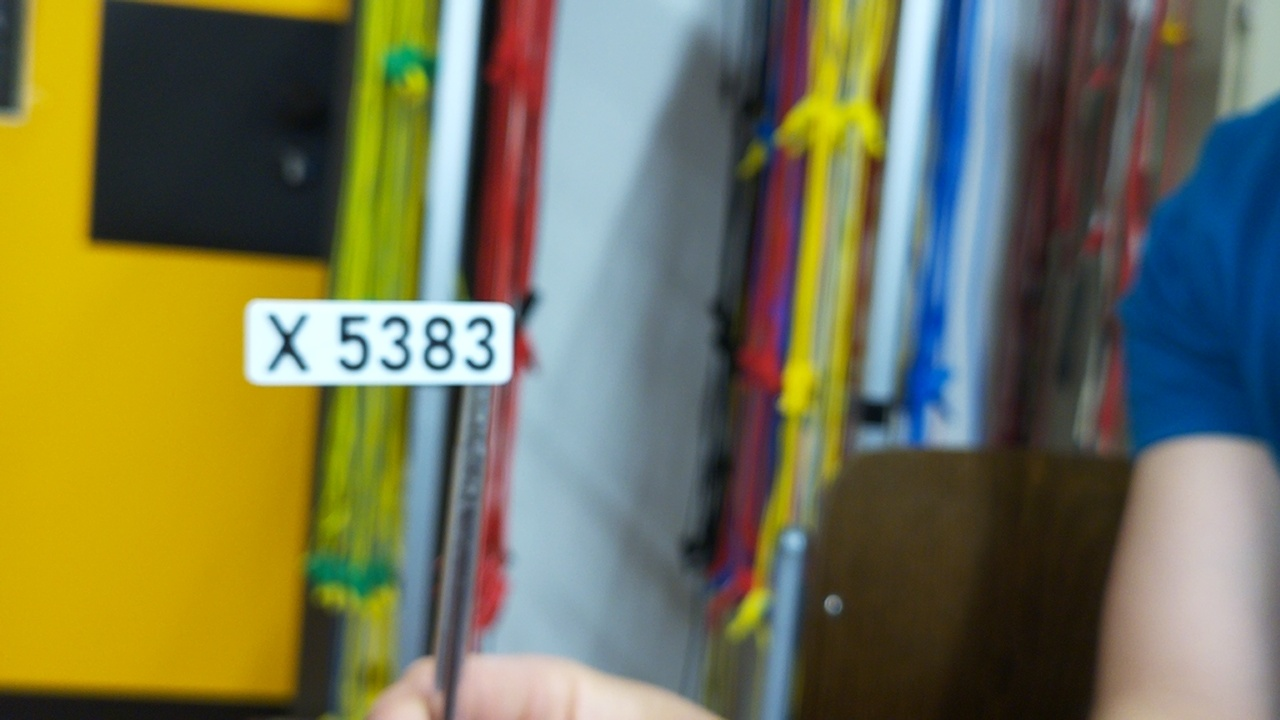license_plate: (244, 297, 519, 387)
